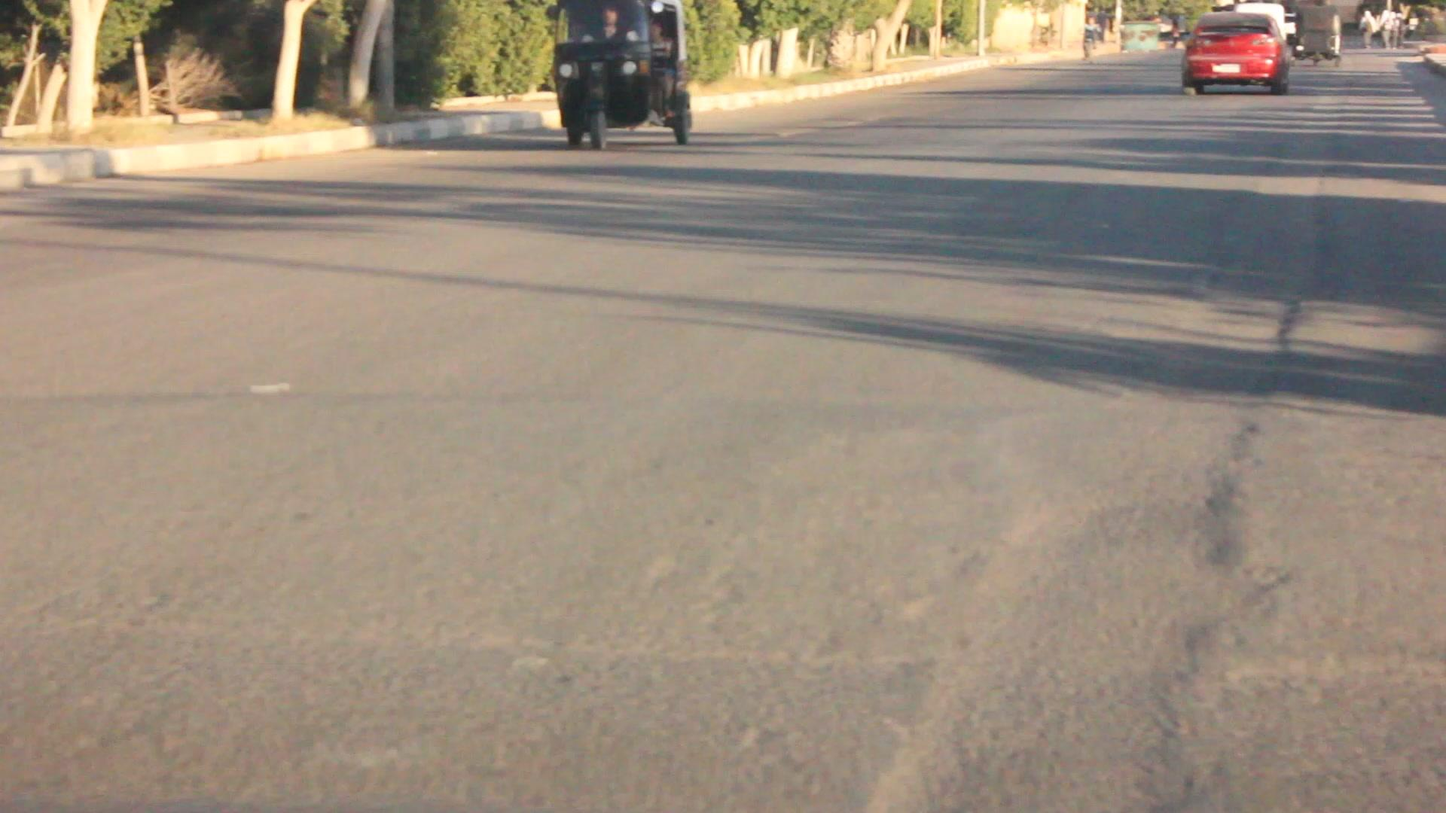Bump: (902, 186, 1341, 812)
